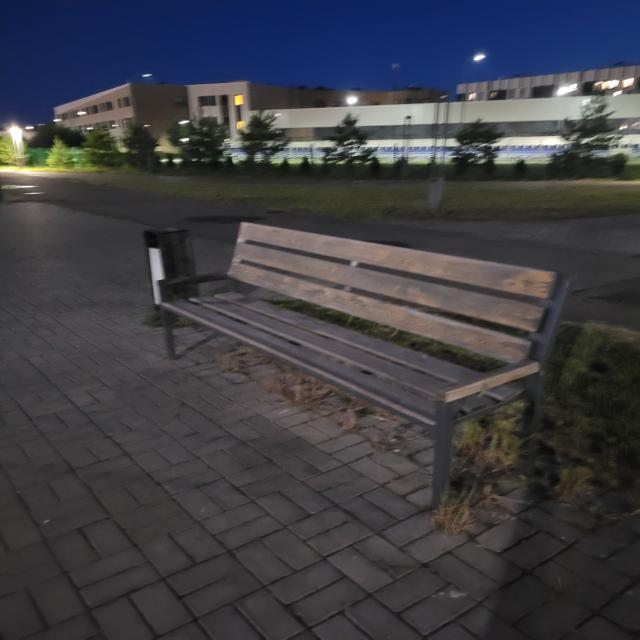Bench: (159, 223, 575, 513)
